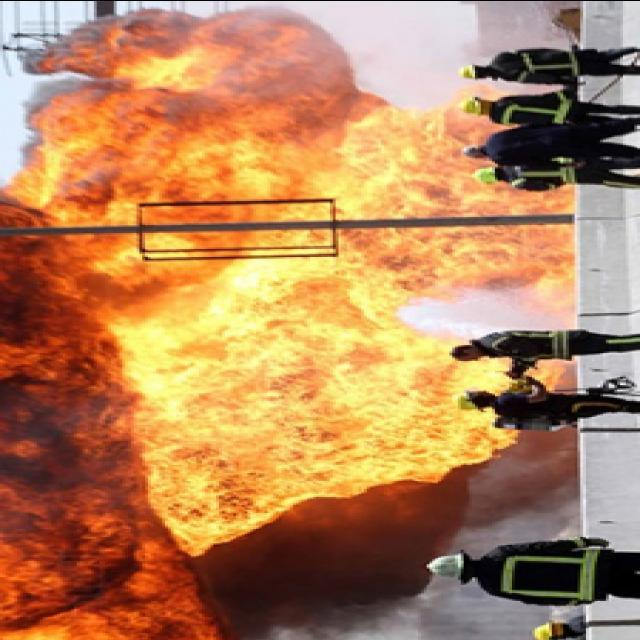Fire: (0, 0, 580, 635)
